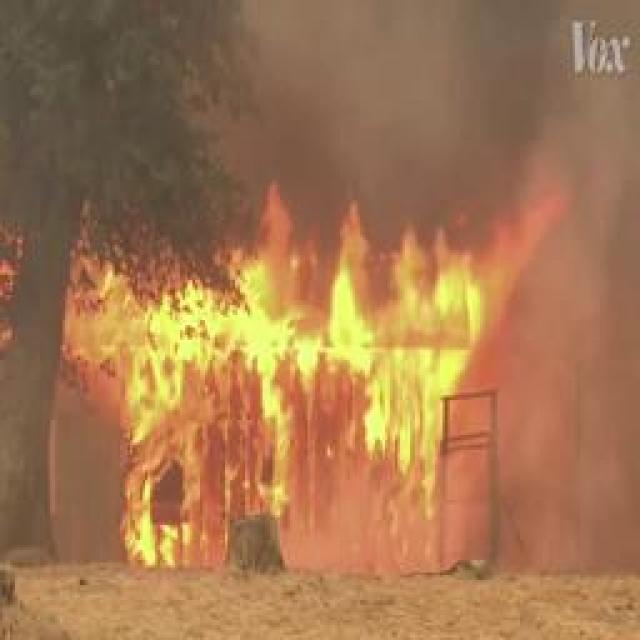Fire: (114, 230, 583, 555)
Smoke: (224, 14, 607, 167)
